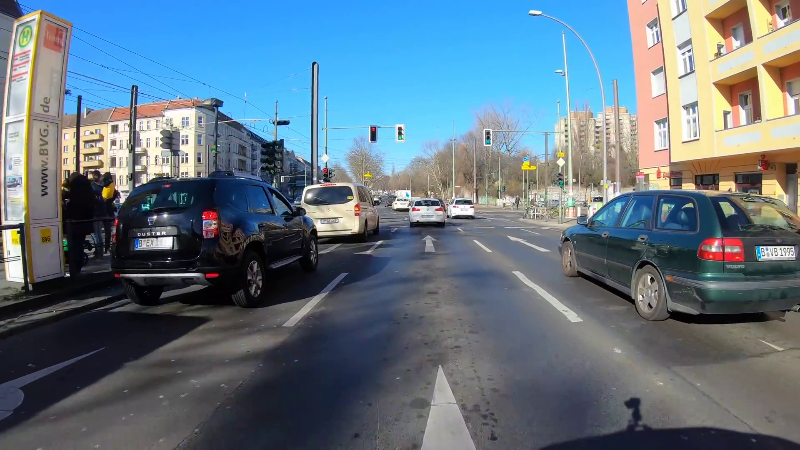Plate: (754, 244, 796, 259), (133, 237, 173, 249)
